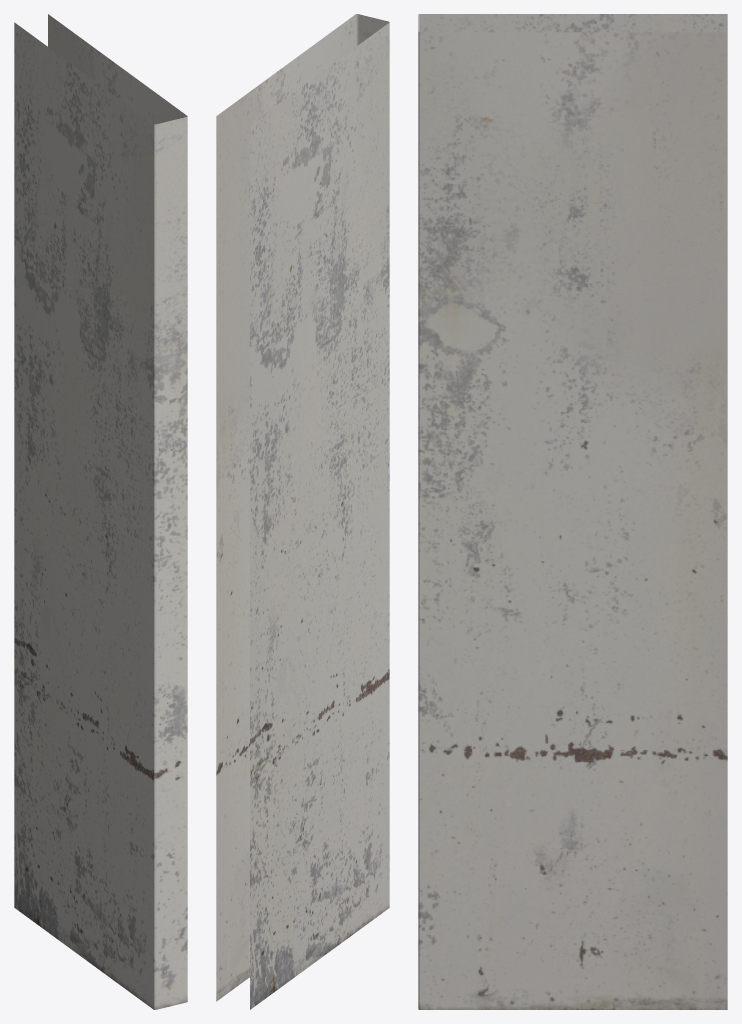
The model's file is Lift_Door_A.fbx.
3 views of the same model, side by side, from view 1: azimuth 30°, elevation 25°; view 2: azimuth 150°, elevation 25°; view 3: azimuth 270°, elevation 25° (orthographic). The views are drawn at different scales.
Visible parts, largest first — view 1: Lift_Door_A; view 2: Lift_Door_A; view 3: Lift_Door_A.
Boxes of the visible parts, <box> form: Lift_Door_A: <box>14,14,187,1009</box>; Lift_Door_A: <box>216,14,389,1009</box>; Lift_Door_A: <box>418,14,727,1009</box>.
Size of the model in its own units: 0.1113 by 2.79 by 0.7996.
